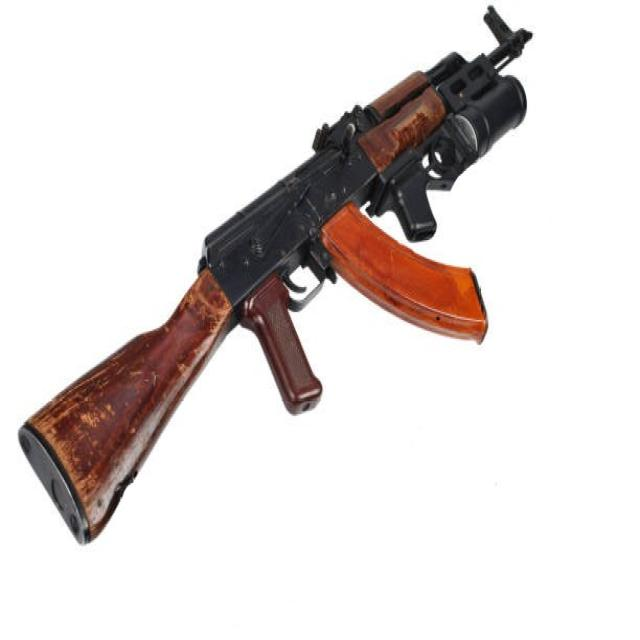rifle: (15, 3, 539, 550)
